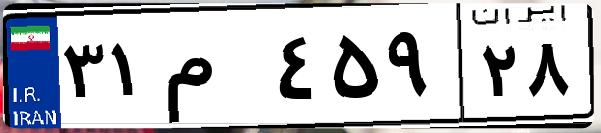1: (110, 28, 158, 98)
2: (475, 38, 525, 113)
3: (57, 26, 110, 100)
4: (270, 28, 330, 110)
5: (330, 28, 385, 110)
8: (525, 38, 570, 115)
9: (385, 28, 445, 110)
م: (158, 20, 270, 120)
